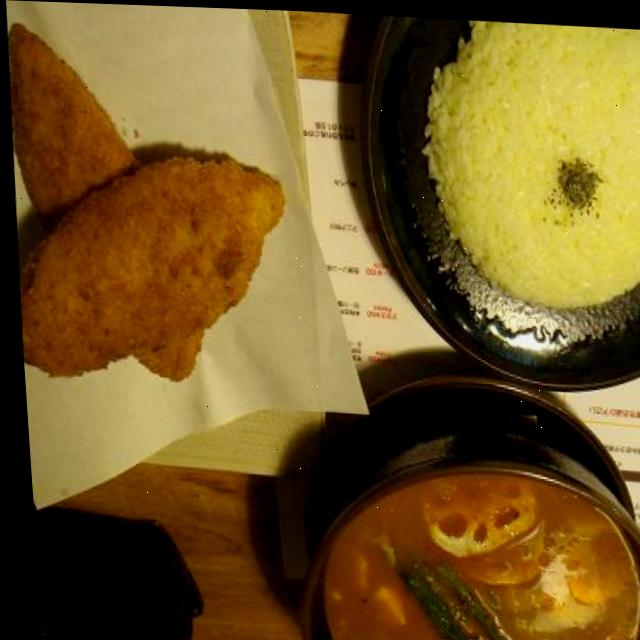炸货点心: (2, 31, 294, 418)
熟制海鲜: (2, 31, 294, 418)
